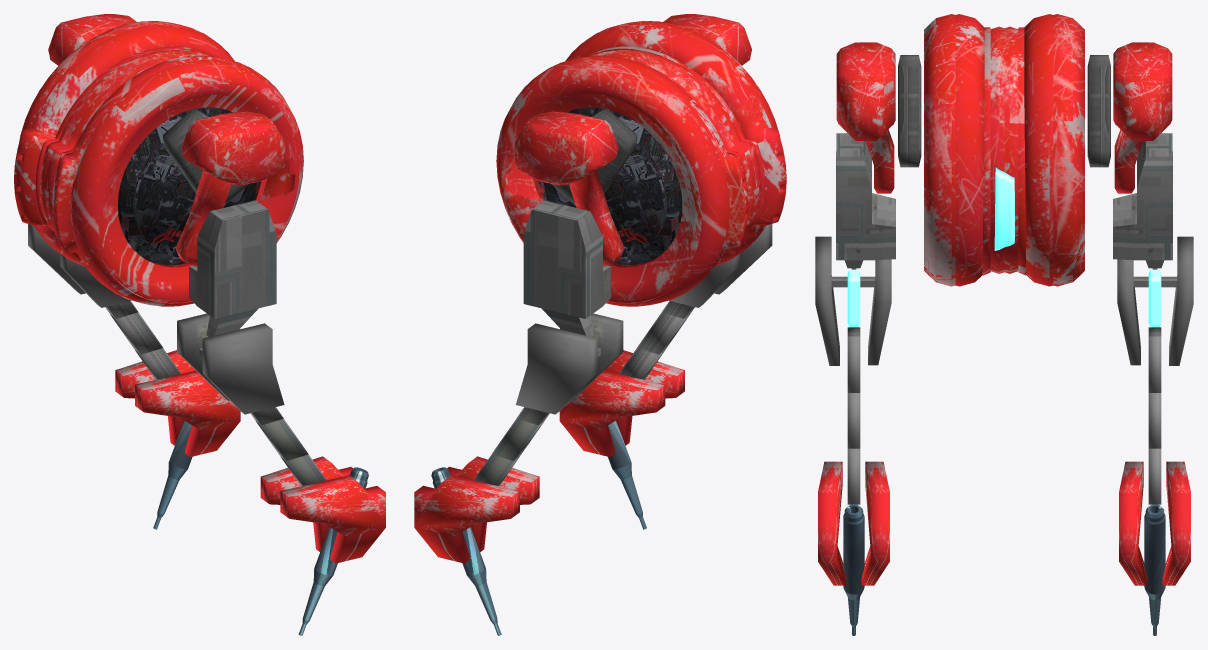
Rendered from Platelet drone static fixed 3 fbx.fbx.
The picture shows the model from 3 angles, left to right: view 1: azimuth 30°, elevation 25°; view 2: azimuth 150°, elevation 25°; view 3: azimuth 270°, elevation 25°; orthographic projection. The views are drawn at different scales.
Parts seen in each view (by area): view 1: Chassi, Claw grip, Arm 1, Arm 2, Grav mount, Frame, Extension, Fabricator, Mechanical actuator; view 2: Chassi, Claw grip, Arm 1, Arm 2, Grav mount, Frame, Extension, Fabricator, Mechanical actuator; view 3: Chassi, Arm 1, Arm 2, Claw grip, Grav mount, Mechanical actuator, Extension, Fabricator, LED, Eyes, Joint.
Part boxes in pixels (box(x1,y1,x2,y2)): Chassi: box(14, 21, 303, 306); Claw grip: box(115, 350, 385, 563); Arm 1: box(48, 14, 285, 266); Arm 2: box(189, 200, 276, 336); Grav mount: box(28, 224, 284, 414); Frame: box(117, 107, 260, 264); Extension: box(105, 301, 326, 486); Fabricator: box(153, 420, 368, 635); Mechanical actuator: box(163, 108, 248, 205); Chassi: box(496, 21, 786, 306); Claw grip: box(414, 350, 684, 563); Arm 1: box(514, 14, 751, 266); Arm 2: box(523, 200, 611, 336); Grav mount: box(516, 224, 772, 414); Frame: box(539, 107, 682, 264); Extension: box(474, 301, 694, 485); Fabricator: box(431, 421, 646, 635); Mechanical actuator: box(551, 108, 637, 205); Chassi: box(924, 14, 1084, 286); Arm 1: box(836, 42, 1172, 193); Arm 2: box(836, 133, 1172, 268); Claw grip: box(818, 461, 1190, 585); Grav mount: box(815, 236, 1193, 365); Mechanical actuator: box(898, 55, 1110, 167); Extension: box(847, 327, 1161, 504); Fabricator: box(843, 504, 1165, 635); LED: box(847, 269, 1161, 327); Eyes: box(994, 167, 1014, 250); Joint: box(831, 268, 1177, 287).
Size of the model in its own units: 123 by 250 by 149.
